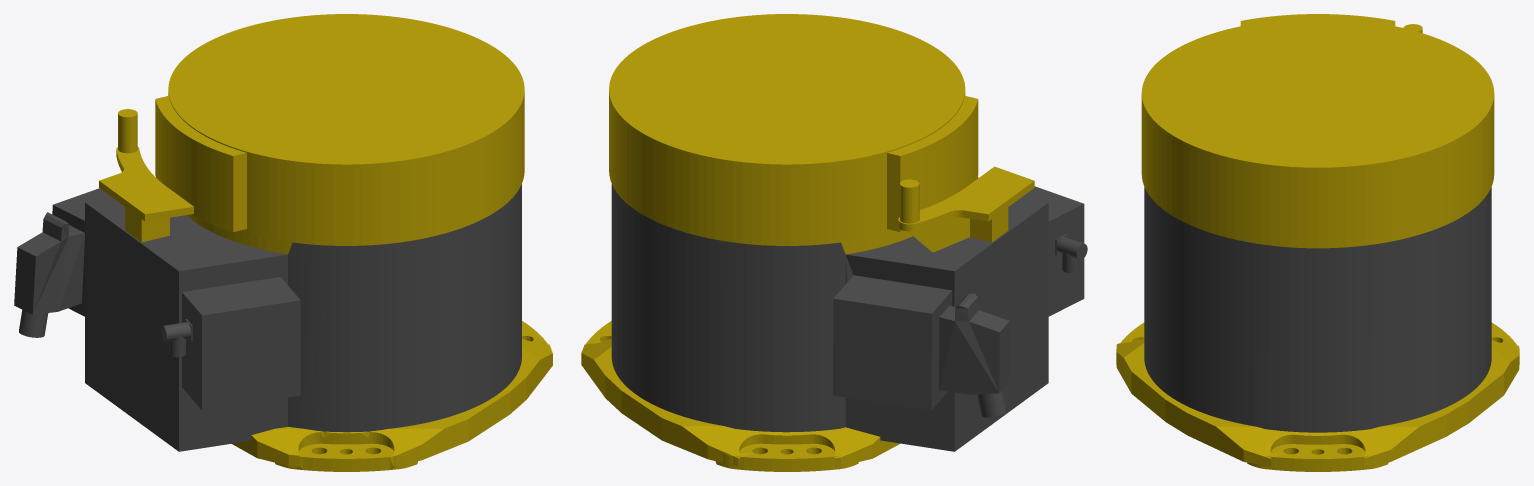
The picture shows the model from 3 angles, left to right: view 1: azimuth 30°, elevation 25°; view 2: azimuth 150°, elevation 25°; view 3: azimuth 270°, elevation 25°; orthographic projection.
Visible parts, largest first — view 1: Mesh; view 2: Mesh; view 3: Mesh.
Boxes of the visible parts, left/top/right/bottom form: Mesh: left=14, top=14, right=552, bottom=471; Mesh: left=581, top=14, right=1087, bottom=471; Mesh: left=1116, top=14, right=1519, bottom=471.
Size of the model in its own units: 0.9539 by 0.7411 by 0.5888.
